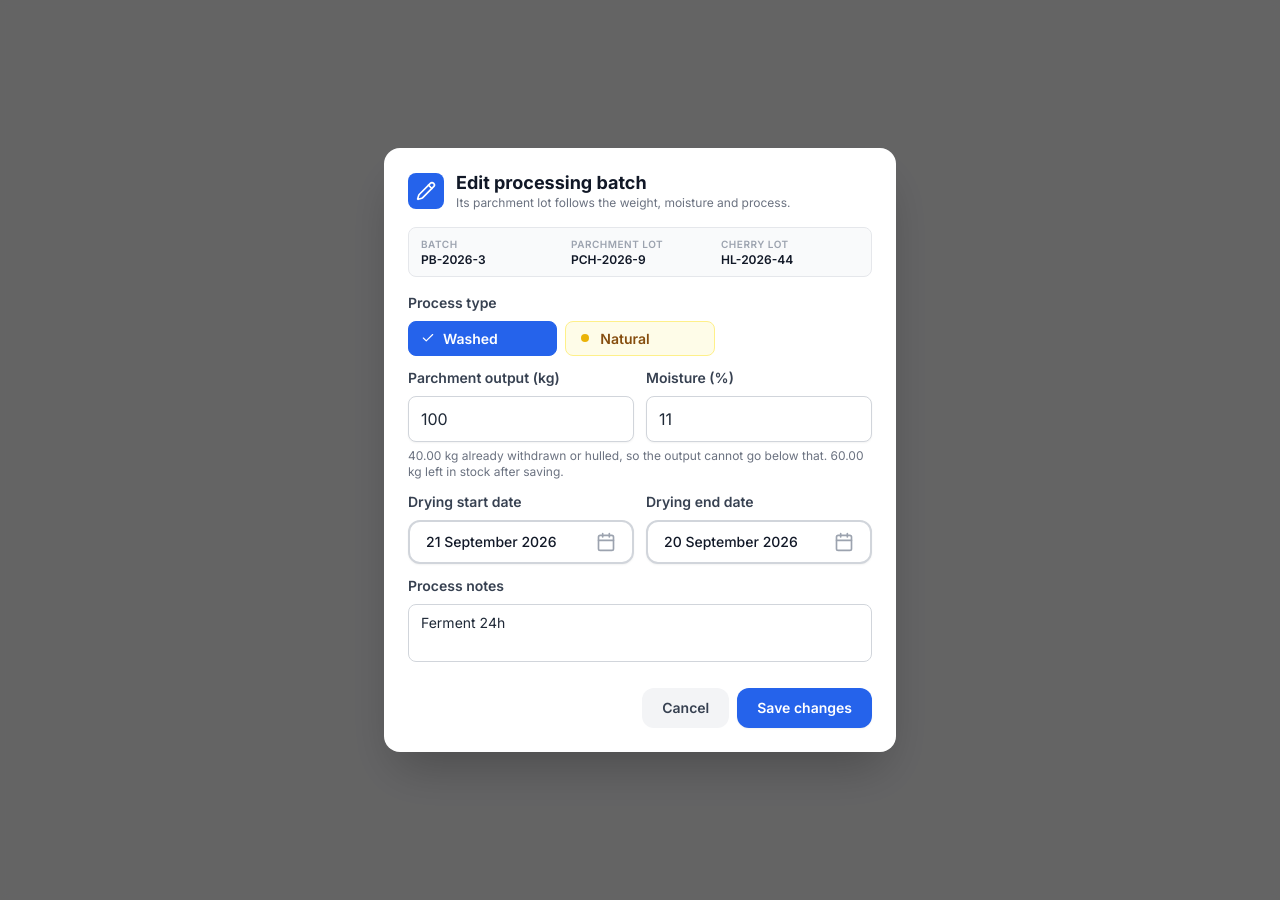
EditProcessingBatchModal › refuses a drying end date before the start date
Click the button named "Drying end date 20 September 2026".
click(759, 542)  # box [646,520,872,564]
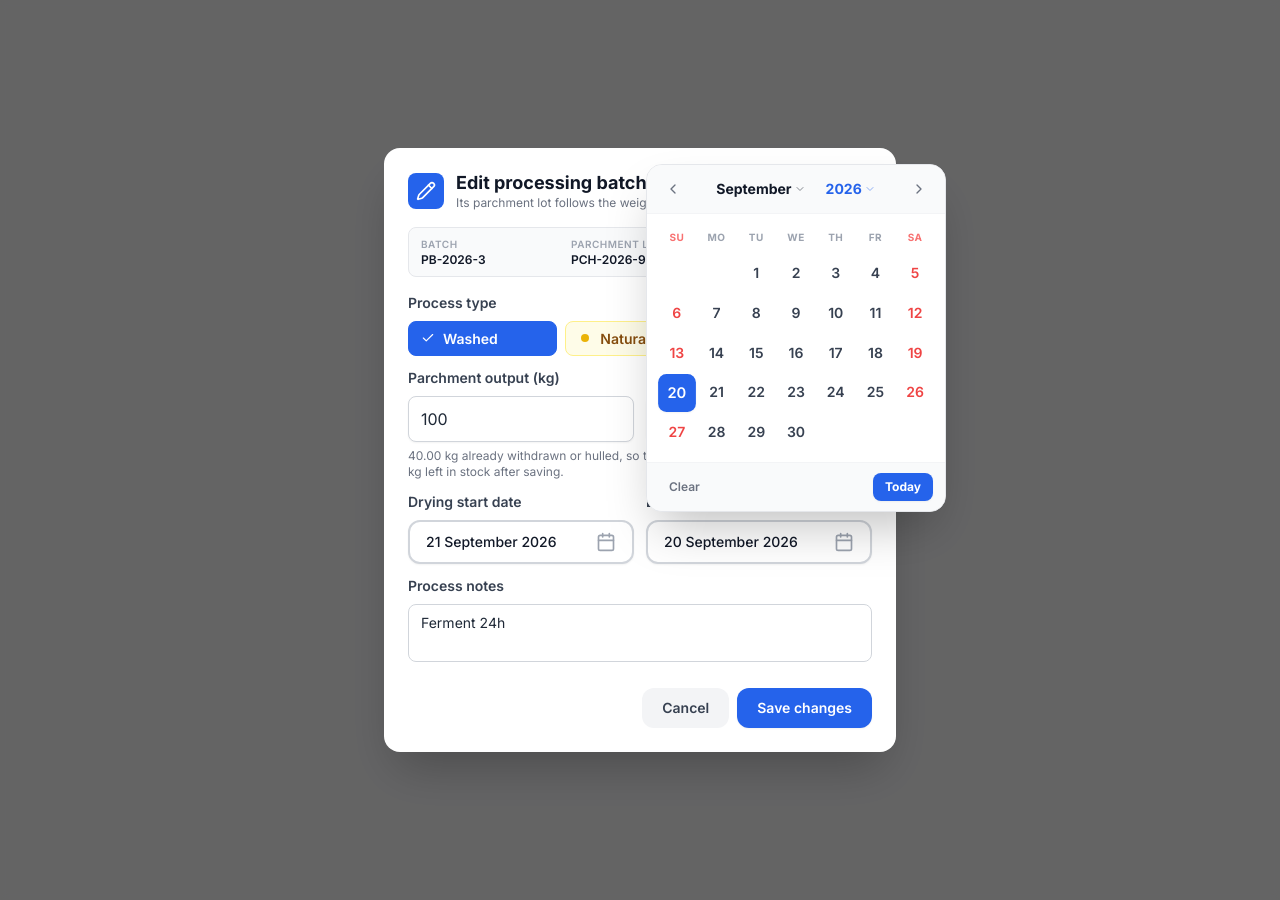
Click the button "10".
click(836, 313)  # box [818,295,854,331]
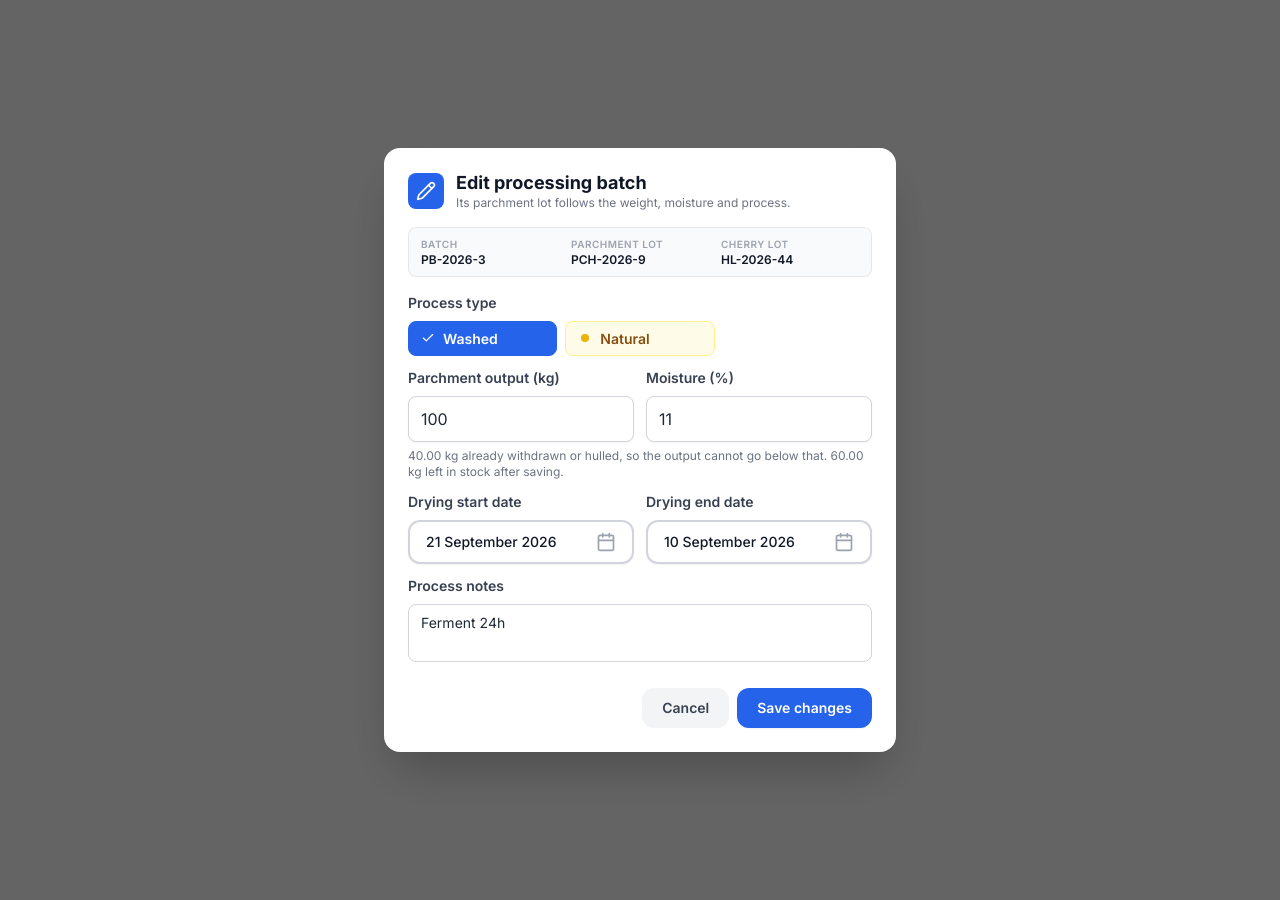
Click the button "Save changes".
click(805, 708)  # box [737,688,872,728]
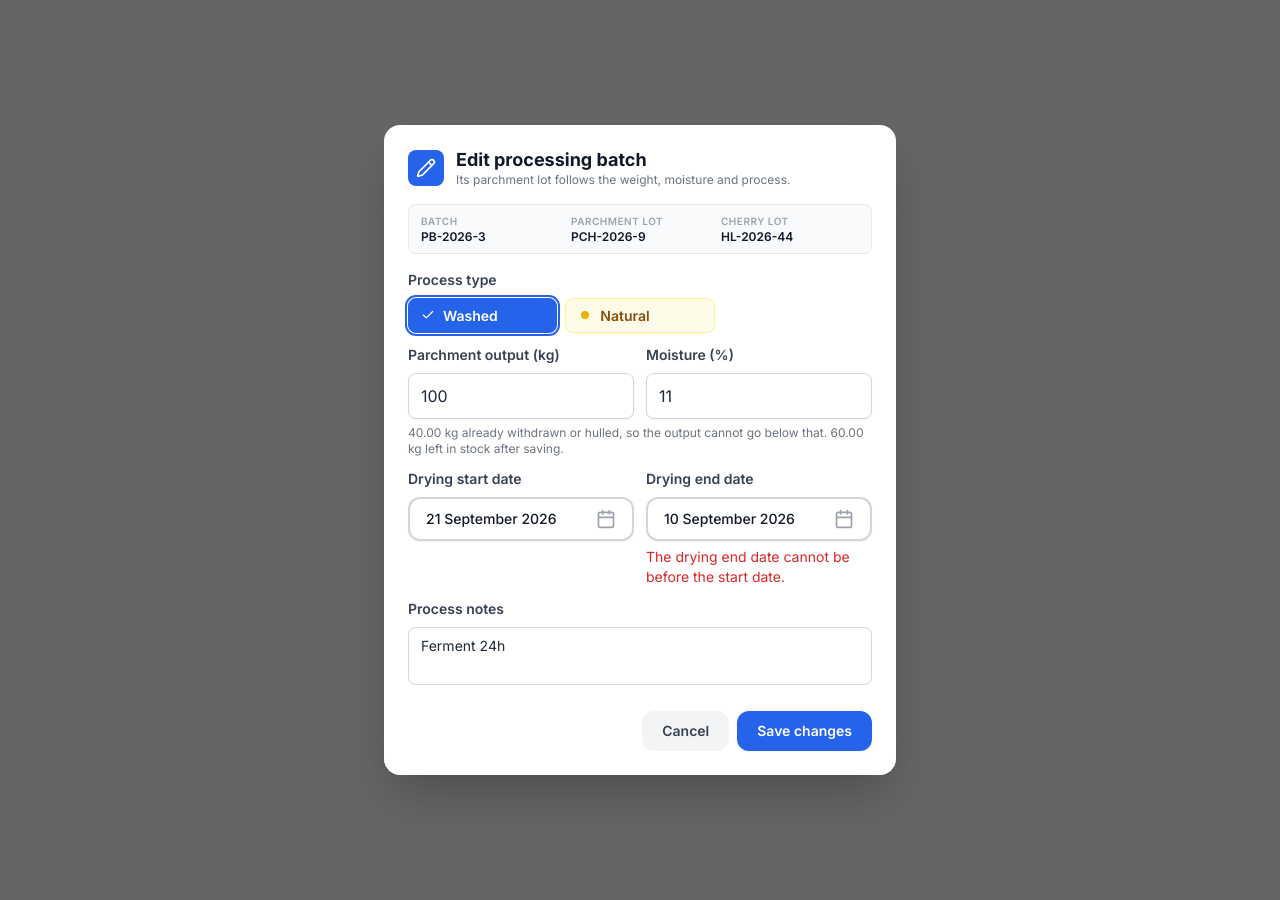
Result: the text "The drying end date cannot be before the start date." is shown at [646,547,872,587]
